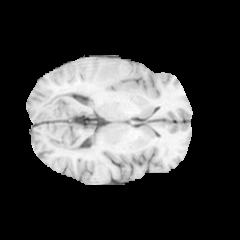glioma: (74, 59, 130, 97)
